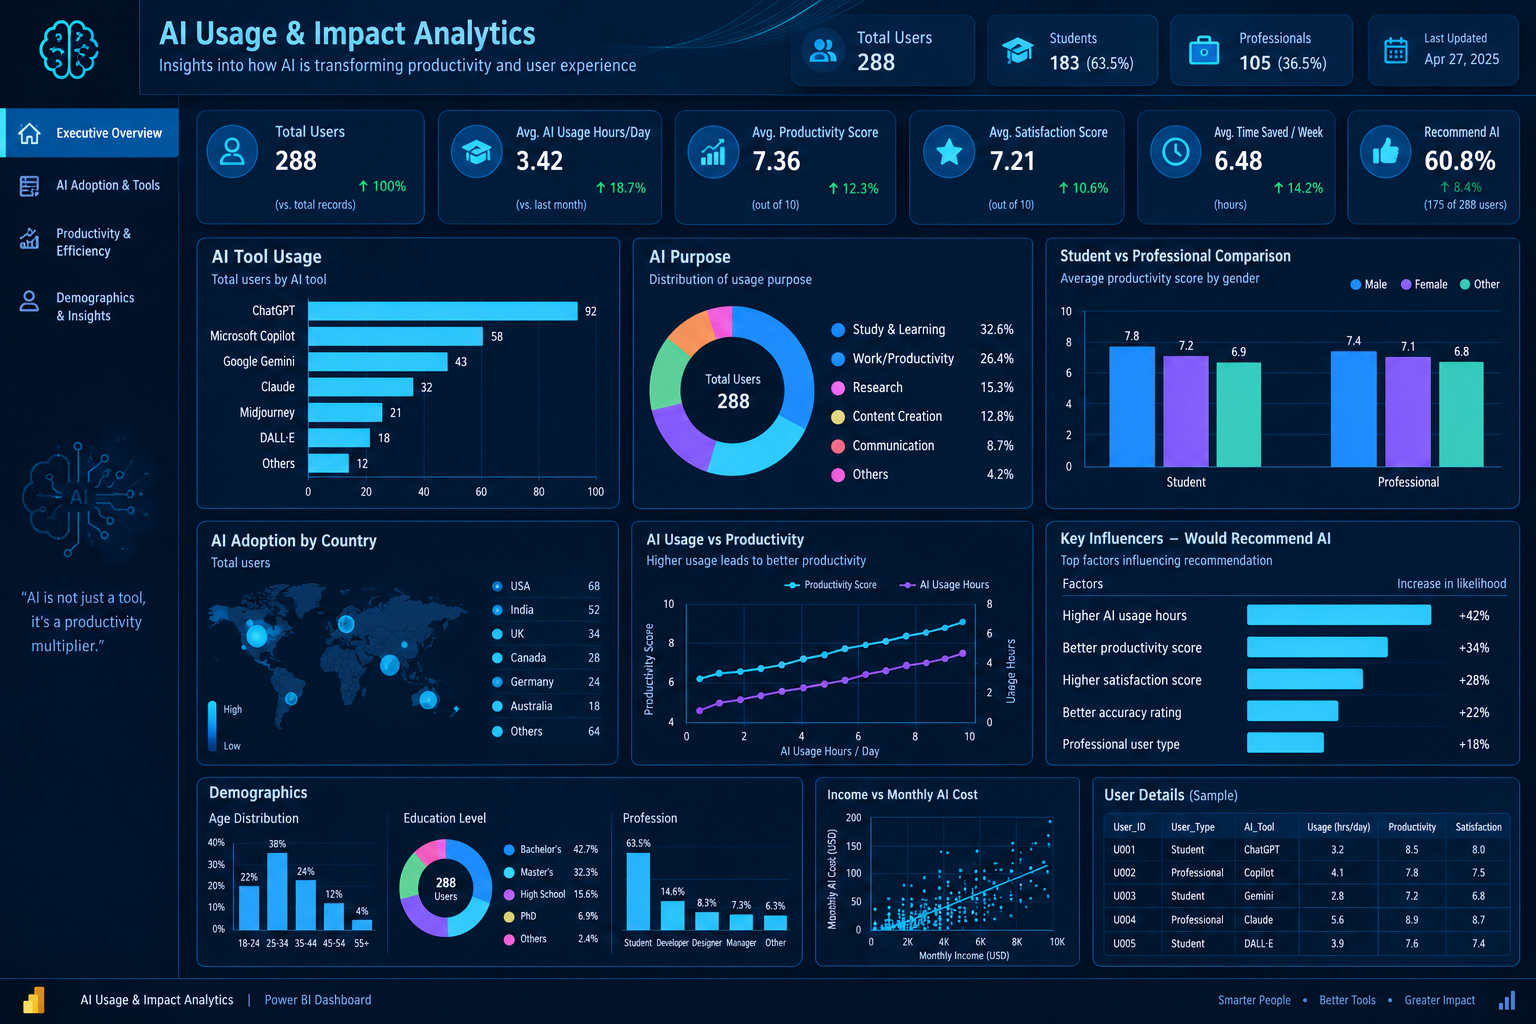

What the dashboard file says about the page in this screenshot:
{"tool":"powerbi","page":{"name":"Executive Overview","canvas":[1280,720],"ordinal":0},"visuals":[{"type":"image","box":[48.5,23.4,101.6,95.3],"z":0},{"type":"shape","box":[0,0,196.9,720.5],"z":1000},{"type":"actionButton","box":[0,153.2,196.9,43.8],"z":2000},{"type":"actionButton","box":[0,211,196.9,43.8],"z":3000},{"type":"actionButton","box":[0,337.6,196.9,43.8],"z":4000},{"type":"actionButton","box":[0,273.5,196.9,43.8],"z":5000},{"type":"textbox","box":[196.9,0,1083.2,101.6],"z":6000},{"type":"card","fields":{"Values":["AI_Usage.Total Users"]},"box":[196.9,101.6,328.2,131.3],"z":6001},{"type":"card","fields":{"Values":["AI_Usage.Total Students"]},"box":[561.1,101.6,342.3,131.3],"z":6002},{"type":"card","fields":{"Values":["AI_Usage.Total Professionals"]},"box":[937.8,101.6,329.8,131.3],"z":6003},{"type":"card","fields":{"Values":["AI_Usage.Avg Productivity"]},"box":[197.6,251.2,328.2,131.3],"z":6004},{"type":"card","fields":{"Values":["AI_Usage.Avg Weekly Time Saved"]},"box":[561.7,251.2,342.3,131.3],"z":6005},{"type":"card","fields":{"Values":["AI_Usage.Recommendation Rate"]},"box":[931.5,250.1,336,131.3],"z":6006},{"type":"clusteredBarChart","fields":{"Category":["AI_Usage.AI_Tool"],"Y":["AI_Usage.Total Users"]},"box":[197.4,399,328.2,322],"z":6007},{"type":"donutChart","fields":{"Category":["AI_Usage.AI_Purpose"],"Y":["AI_Usage.Total Users"]},"box":[562.7,398.6,340.7,322],"z":6008},{"type":"hundredPercentStackedColumnChart","fields":{"Category":["AI_Usage.User_Type"],"Y":["AI_Usage.Avg Productivity"],"Series":["AI_Usage.Gender"]},"box":[917.5,398.6,362.6,322],"z":6009},{"type":"slicer","fields":{"Values":["AI_Usage.Country"]},"box":[676.8,0,143.8,71.9],"z":6010},{"type":"slicer","fields":{"Values":["AI_Usage.User_Type"]},"box":[831.5,0,143.8,71.9],"z":6011},{"type":"slicer","fields":{"Values":["AI_Usage.AI_Tool"]},"box":[983.1,0,143.8,71.9],"z":6012},{"type":"slicer","fields":{"Values":["AI_Usage.AI_Purpose"]},"box":[1136.3,0,143.8,71.9],"z":6013},{"type":"image","box":[19.7,399,156.5,160.7],"z":6014}]}

Visuals, with their boxes on the page's 1280x720 design canvas (x1, y1, x2, y2). These are canvas units, not pixel positions in the 1536x1024 screenshot, which may show the page scaled, cropped or inside an application window:
image: x1=48 y1=23 x2=150 y2=119
shape: x1=0 y1=0 x2=197 y2=720
actionButton: x1=0 y1=153 x2=197 y2=197
actionButton: x1=0 y1=211 x2=197 y2=255
actionButton: x1=0 y1=338 x2=197 y2=381
actionButton: x1=0 y1=274 x2=197 y2=317
textbox: x1=197 y1=0 x2=1280 y2=102
card - AI_Usage.Total Users: x1=197 y1=102 x2=525 y2=233
card - AI_Usage.Total Students: x1=561 y1=102 x2=903 y2=233
card - AI_Usage.Total Professionals: x1=938 y1=102 x2=1268 y2=233
card - AI_Usage.Avg Productivity: x1=198 y1=251 x2=526 y2=382
card - AI_Usage.Avg Weekly Time Saved: x1=562 y1=251 x2=904 y2=382
card - AI_Usage.Recommendation Rate: x1=932 y1=250 x2=1268 y2=381
clusteredBarChart - AI_Usage.AI_Tool x AI_Usage.Total Users: x1=197 y1=399 x2=526 y2=721
donutChart - AI_Usage.AI_Purpose x AI_Usage.Total Users: x1=563 y1=399 x2=903 y2=721
hundredPercentStackedColumnChart - AI_Usage.User_Type x AI_Usage.Avg Productivity: x1=918 y1=399 x2=1280 y2=721
slicer - AI_Usage.Country: x1=677 y1=0 x2=821 y2=72
slicer - AI_Usage.User_Type: x1=832 y1=0 x2=975 y2=72
slicer - AI_Usage.AI_Tool: x1=983 y1=0 x2=1127 y2=72
slicer - AI_Usage.AI_Purpose: x1=1136 y1=0 x2=1280 y2=72
image: x1=20 y1=399 x2=176 y2=560
